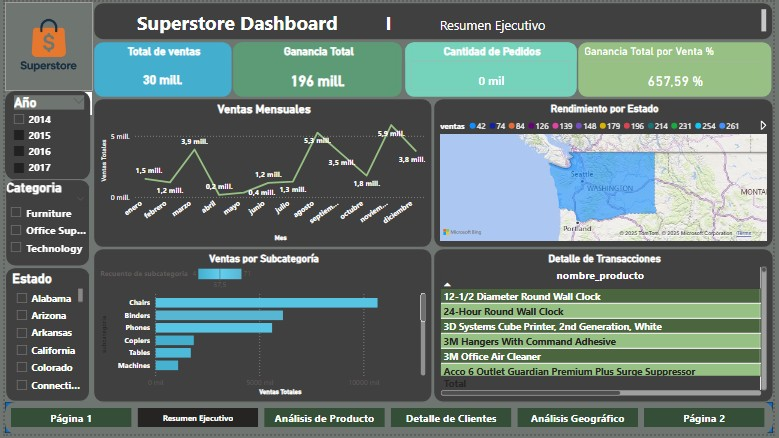

The dashboard page shown, as its layout file describes it:
{"tool":"powerbi","page":{"name":"Resumen Ejecutivo","canvas":[1280,720],"ordinal":1},"visuals":[{"type":"textbox","box":[146.3,0,1134.1,64.4],"z":0},{"type":"cardVisual","title":"Total de ventas","fields":{"Data":["superstore_procesado.Ventas Totales"]},"box":[146.3,64.4,232.7,95.1],"z":1000},{"type":"image","box":[0,0,146.3,147.8],"z":2000},{"type":"cardVisual","title":"Ganancia Total","fields":{"Data":["superstore_procesado.Ganancia Total"]},"box":[379,64.4,285.4,95.1],"z":3000},{"type":"cardVisual","title":"Cantidad de Pedidos","fields":{"Data":["superstore_procesado.Cantidad de Pedidos"]},"box":[664.4,64.4,289.8,95.1],"z":4000},{"type":"cardVisual","title":"Ganancia Total por Venta %","fields":{"Data":["superstore_procesado.Ganancia por Venta (%)"]},"box":[954.1,64.4,326.3,95.1],"z":5000},{"type":"slicer","fields":{"Values":["superstore_procesado.año"]},"box":[0,147.8,142,147.8],"z":6000},{"type":"pageNavigator","box":[0,667.3,1280.5,52.7],"z":7000},{"type":"slicer","title":"Categoria","fields":{"Values":["superstore_procesado.categoria"]},"box":[0,295.6,142,146.3],"z":8000},{"type":"slicer","title":"Estado","fields":{"Values":["superstore_procesado.estado"]},"box":[0,442,142,225.4],"z":9000},{"type":"pageNavigator","box":[0,667.3,1280.5,52.7],"z":10000},{"type":"lineChart","title":"Ventas Mensuales","fields":{"Category":["superstore_procesado.fecha_pedido.Variación.Jerarquía de fechas.Mes"],"Y":["superstore_procesado.Ventas Totales"]},"box":[146.3,159.5,566.3,250.2],"z":11000},{"type":"clusteredBarChart","title":"Ventas por Subcategoría","fields":{"Category":["superstore_procesado.subcategoria"],"Y":["superstore_procesado.Ventas Totales"]},"box":[146.3,409.8,566.3,257.6],"z":12000},{"type":"tableEx","title":"Detalle de Transacciones","fields":{"Values":["superstore_procesado.nombre_producto","superstore_procesado.subcategoria","Sum(superstore_procesado.ventas)","Sum(superstore_procesado.ganancia)"]},"box":[712.7,409.8,567.8,257.6],"z":13000},{"type":"filledMap","title":"Rendimiento por Estado","fields":{"Category":["superstore_procesado.estado"],"Series":["superstore_procesado.ventas"]},"box":[712.7,159.5,567.8,250.2],"z":14000}]}

Visuals, with their boxes on the page's 1280x720 design canvas (x1, y1, x2, y2). These are canvas units, not pixel positions in the 779x438 screenshot, which may show the page scaled, cropped or inside an application window:
textbox: [146, 0, 1280, 64]
"Total de ventas" cardVisual: [146, 64, 379, 160]
image: [0, 0, 146, 148]
"Ganancia Total" cardVisual: [379, 64, 664, 160]
"Cantidad de Pedidos" cardVisual: [664, 64, 954, 160]
"Ganancia Total por Venta %" cardVisual: [954, 64, 1280, 160]
slicer - superstore_procesado.año: [0, 148, 142, 296]
pageNavigator: [0, 667, 1280, 720]
"Categoria" slicer: [0, 296, 142, 442]
"Estado" slicer: [0, 442, 142, 667]
pageNavigator: [0, 667, 1280, 720]
"Ventas Mensuales" lineChart: [146, 160, 713, 410]
"Ventas por Subcategoría" clusteredBarChart: [146, 410, 713, 667]
"Detalle de Transacciones" tableEx: [713, 410, 1280, 667]
"Rendimiento por Estado" filledMap: [713, 160, 1280, 410]
